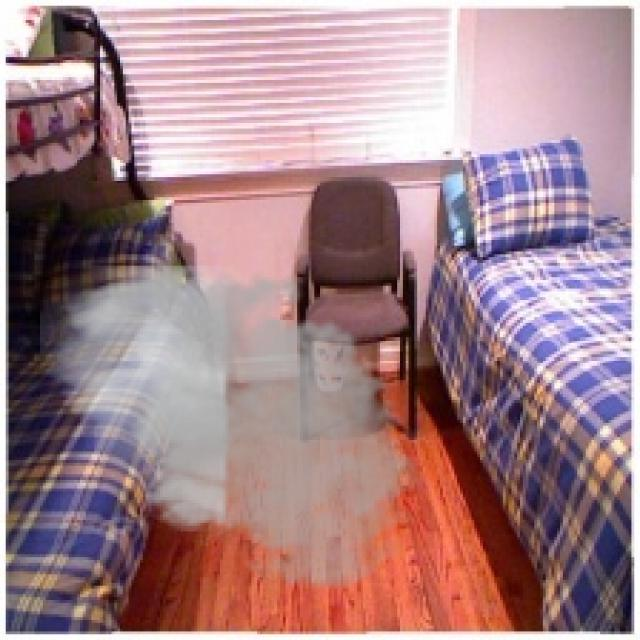smoke: (40, 252, 434, 597)
